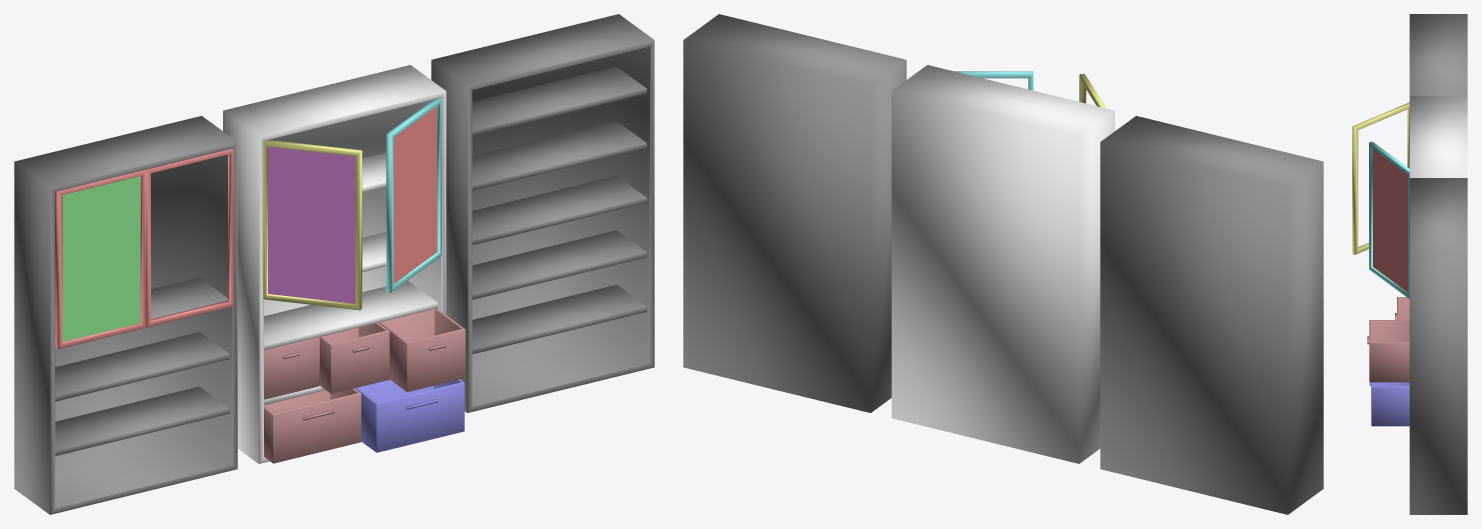
File: shelf4_Box07.gltf
3 renders of one model, left to right at view 1: azimuth 30°, elevation 25°; view 2: azimuth 150°, elevation 25°; view 3: azimuth 270°, elevation 25°, orthographic. The views are drawn at different scales.
Parts seen in each view (by area): view 1: shelf4_Box07; view 2: shelf4_Box07; view 3: shelf4_Box07.
Part boxes in pixels (left/top/right/bottom): shelf4_Box07: left=14, top=14, right=654, bottom=514; shelf4_Box07: left=683, top=14, right=1323, bottom=514; shelf4_Box07: left=1352, top=14, right=1467, bottom=514.
Bounding box in the file's own units: 5.8 × 3 × 1.19.
